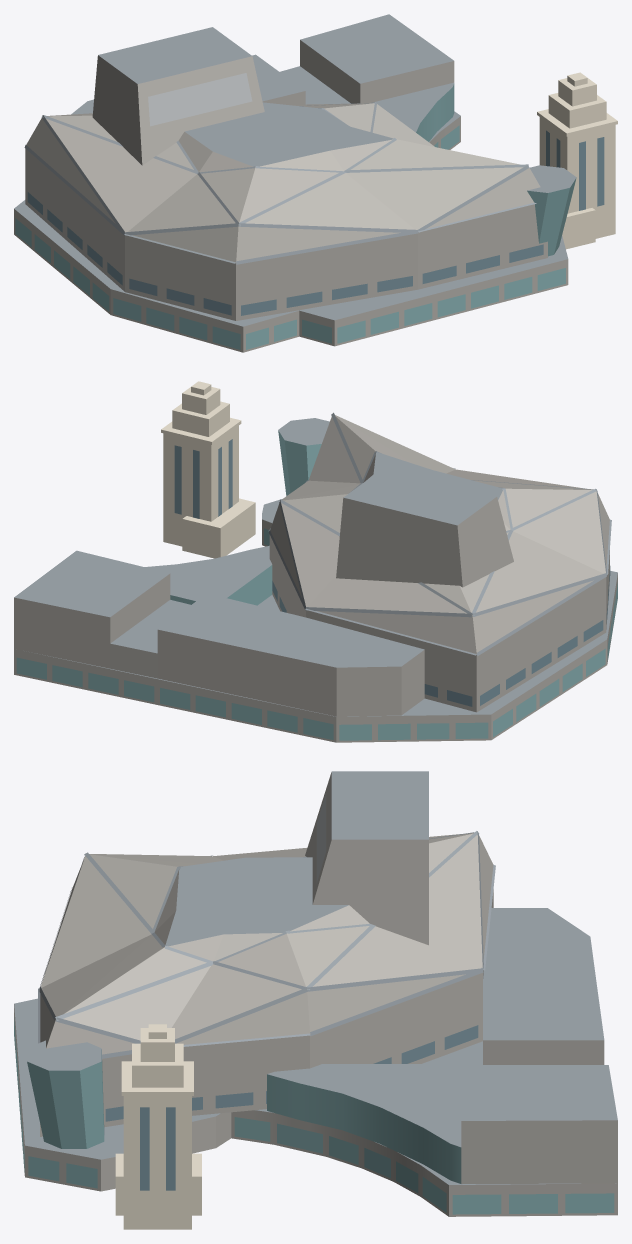
The model's file is mia-arsht-center.glb.
3 renders of one model, top to bottom at view 1: azimuth 30°, elevation 25°; view 2: azimuth 150°, elevation 25°; view 3: azimuth 270°, elevation 25°, orthographic. The views are drawn at different scales.
Visible parts, largest first — view 1: Adrienne Arsht Center (Ziff Ballet Opera House); view 2: Adrienne Arsht Center (Ziff Ballet Opera House); view 3: Adrienne Arsht Center (Ziff Ballet Opera House).
Boxes of the visible parts, bbox=[...] form: Adrienne Arsht Center (Ziff Ballet Opera House): bbox=[14, 14, 617, 352]; Adrienne Arsht Center (Ziff Ballet Opera House): bbox=[14, 381, 617, 742]; Adrienne Arsht Center (Ziff Ballet Opera House): bbox=[14, 771, 617, 1229].
Bounding box in the file's own units: 121 × 45.8 × 112.
